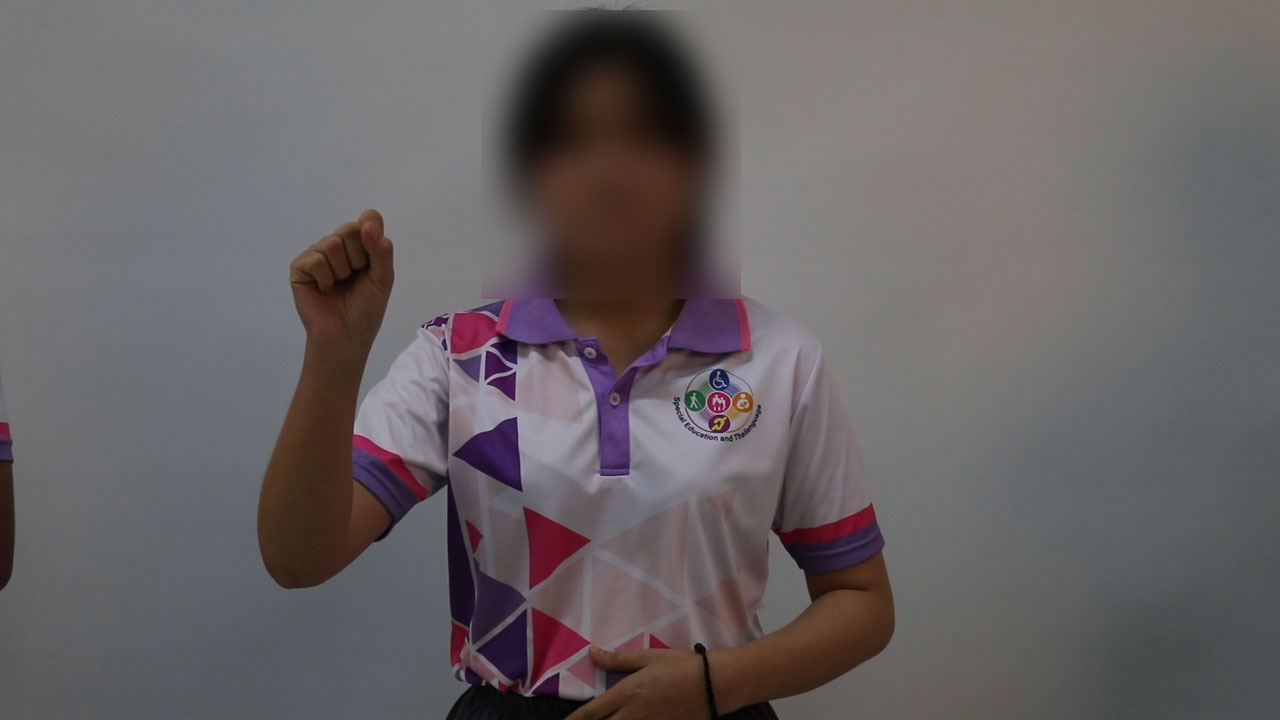sor: (272, 206, 421, 356)
